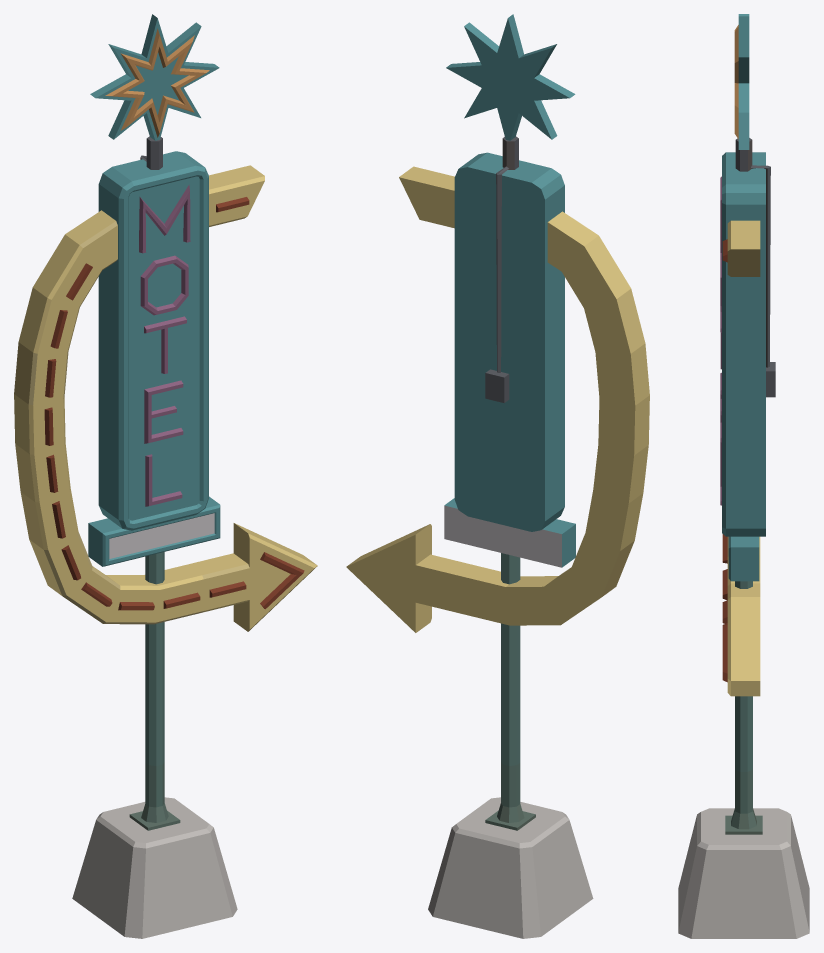
Rendered from motel_neon.glb.
The picture shows the model from 3 angles, left to right: view 1: azimuth 30°, elevation 25°; view 2: azimuth 150°, elevation 25°; view 3: azimuth 270°, elevation 25°; orthographic projection.
Parts seen in each view (by area): view 1: motel-neon-sign-body; view 2: motel-neon-sign-body; view 3: motel-neon-sign-body.
Boxes of the visible parts, box(x1,y1,x2,y2) form: motel-neon-sign-body: box(14, 14, 317, 938); motel-neon-sign-body: box(346, 14, 649, 938); motel-neon-sign-body: box(678, 14, 809, 938).
Bounding box in the file's own units: 3.07 × 9 × 1.2.
